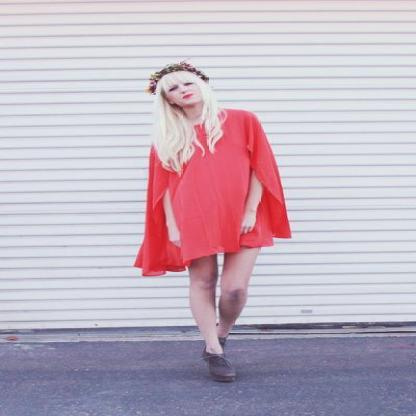dress: (134, 109, 290, 276)
shoe: (202, 348, 229, 368)
